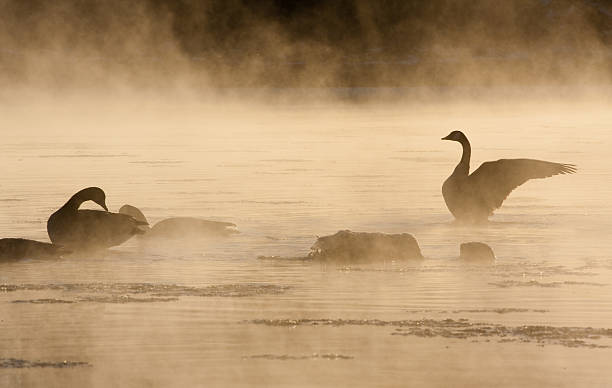goose: (437, 128, 580, 224), (43, 185, 151, 249)
